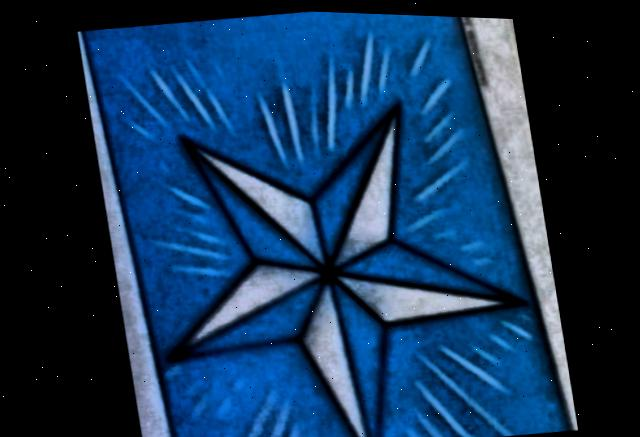La Estrella: (83, 9, 567, 437)
